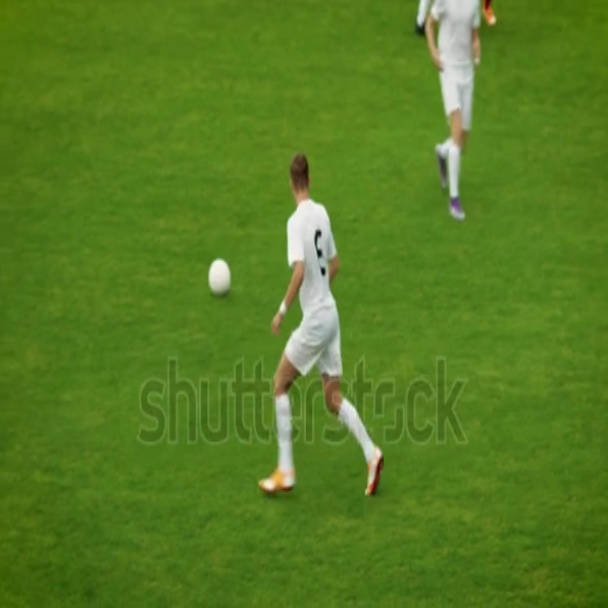ball: (211, 258, 229, 288)
